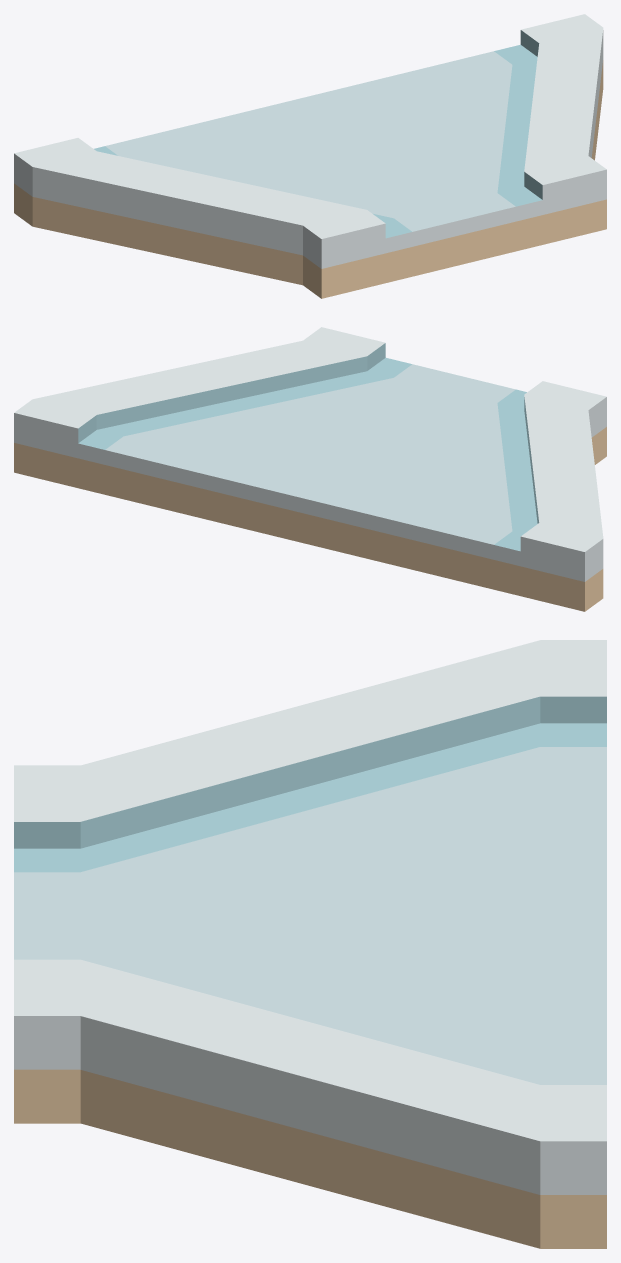
The model's file is snow_tile_wideTransition.glb.
3 renders of one model, top to bottom at view 1: azimuth 30°, elevation 25°; view 2: azimuth 150°, elevation 25°; view 3: azimuth 270°, elevation 25°, orthographic. The views are drawn at different scales.
Parts seen in each view (by area): view 1: snow_tile_wideTransition; view 2: snow_tile_wideTransition; view 3: snow_tile_wideTransition.
Boxes of the visible parts, box(x1,y1,x2,y2) form: snow_tile_wideTransition: box(14, 14, 606, 298); snow_tile_wideTransition: box(14, 327, 606, 611); snow_tile_wideTransition: box(14, 640, 606, 1248).
Size of the model in its own units: 2 by 0.2 by 1.
